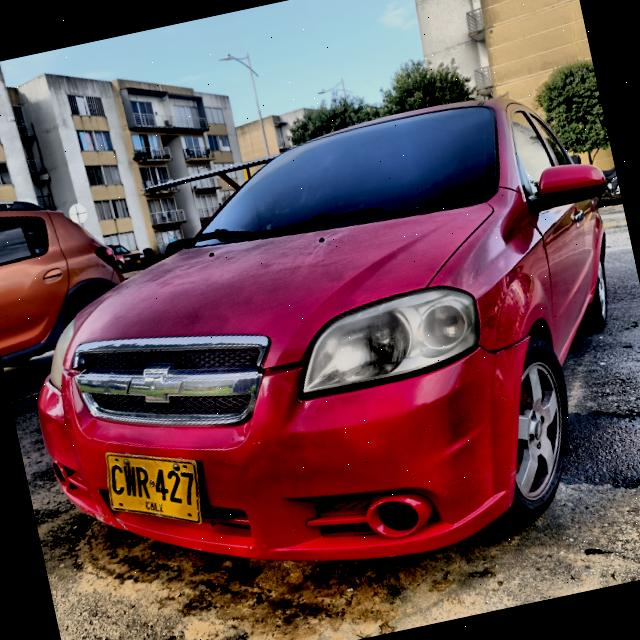2: (165, 467, 184, 505)
4: (154, 467, 169, 502)
7: (180, 469, 194, 506)
C: (109, 462, 125, 497)
R: (135, 464, 152, 500)
W: (122, 464, 138, 498)
